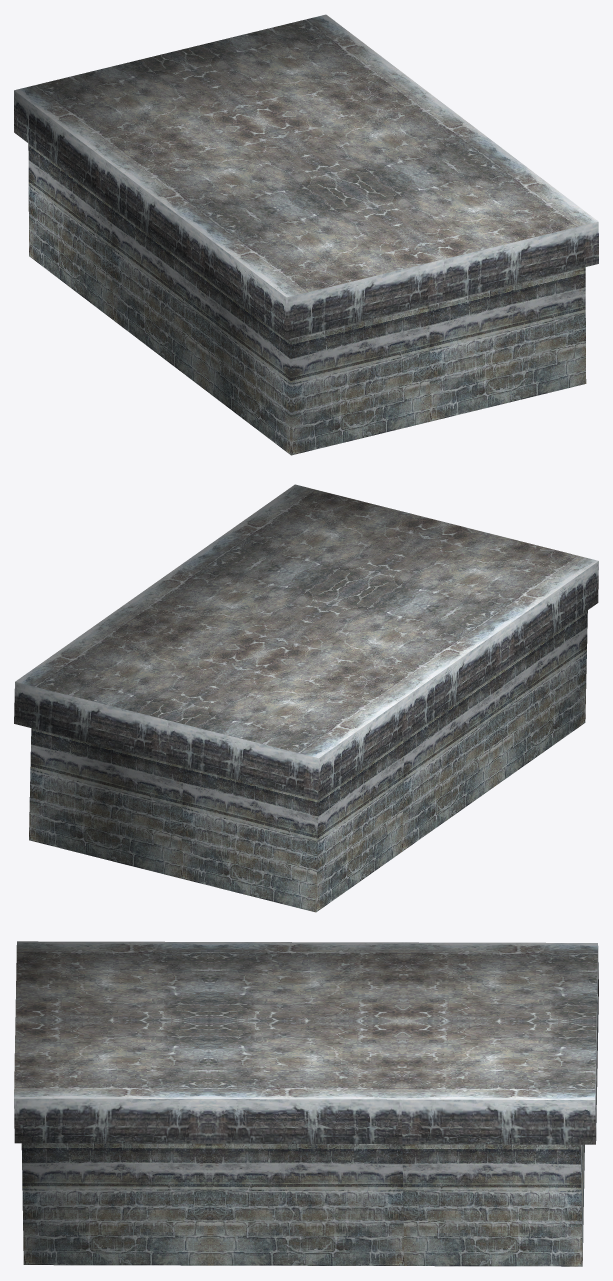
Rendered from S_Build_Snowland133.FBX.
3 renders of one model, top to bottom at view 1: azimuth 30°, elevation 25°; view 2: azimuth 150°, elevation 25°; view 3: azimuth 270°, elevation 25°, orthographic. The views are drawn at different scales.
Parts seen in each view (by area): view 1: S_Build_Snowland133; view 2: S_Build_Snowland133; view 3: S_Build_Snowland133.
Part boxes in pixels (x1,y1,x2,y2): S_Build_Snowland133: [14, 14, 598, 455]; S_Build_Snowland133: [14, 484, 598, 912]; S_Build_Snowland133: [14, 941, 598, 1266].
Size of the model in its own units: 666 by 1018 by 333.
